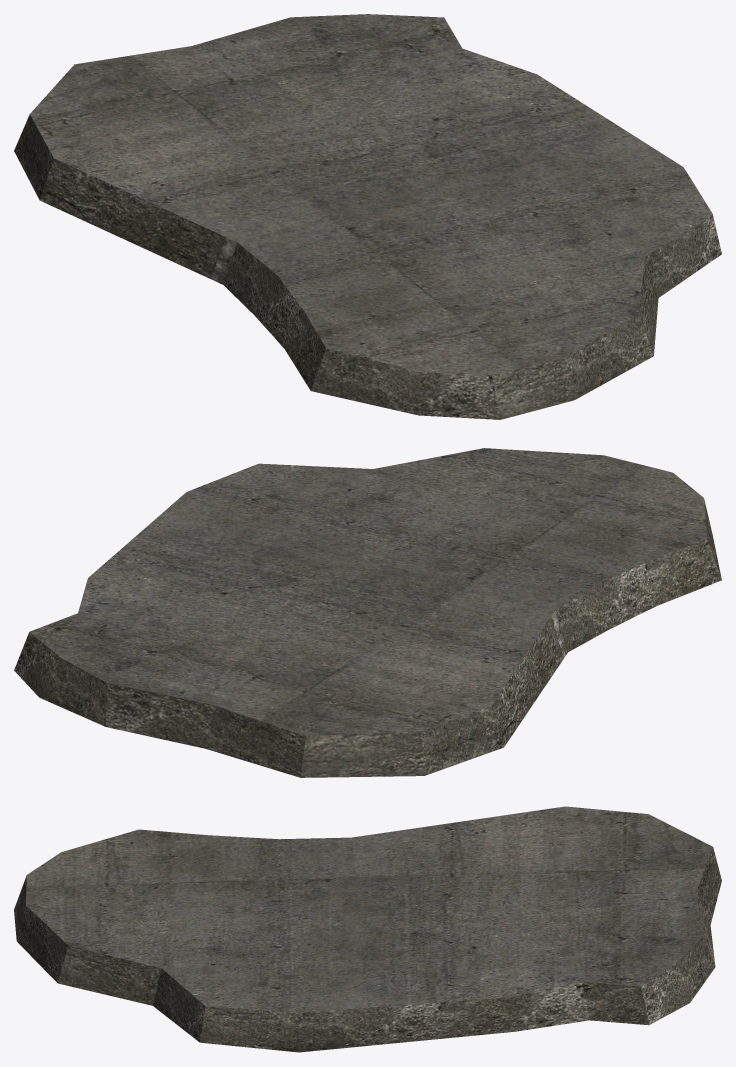
The model's file is Prop_Sst5.glb.
The picture shows the model from 3 angles, top to bottom: view 1: azimuth 30°, elevation 25°; view 2: azimuth 150°, elevation 25°; view 3: azimuth 270°, elevation 25°; orthographic projection. The views are drawn at different scales.
Parts seen in each view (by area): view 1: xiutz_sst5_0; view 2: xiutz_sst5_0; view 3: xiutz_sst5_0.
Part boxes in pixels (x1,y1,x2,y2): xiutz_sst5_0: (14, 14, 721, 419); xiutz_sst5_0: (14, 448, 721, 777); xiutz_sst5_0: (14, 806, 721, 1052).
Size of the model in its own units: 0.7385 by 0.0894 by 1.05.
Materials: 2 (2 with a texture image).
